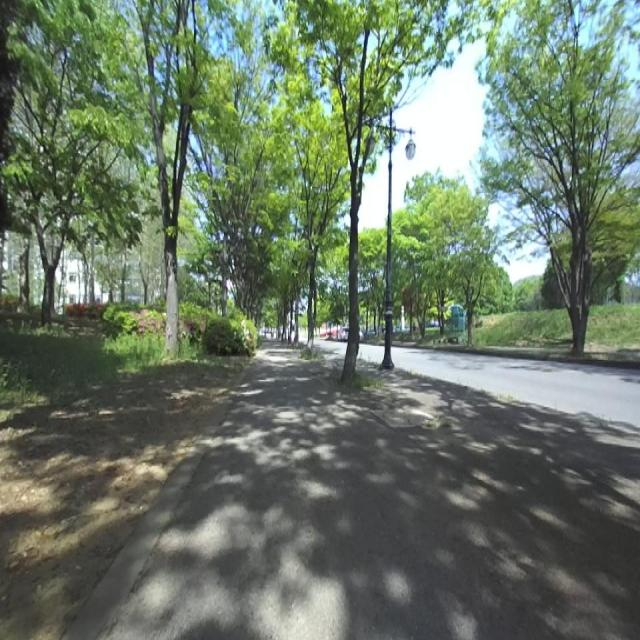sidewalk: (107, 343, 640, 639)
